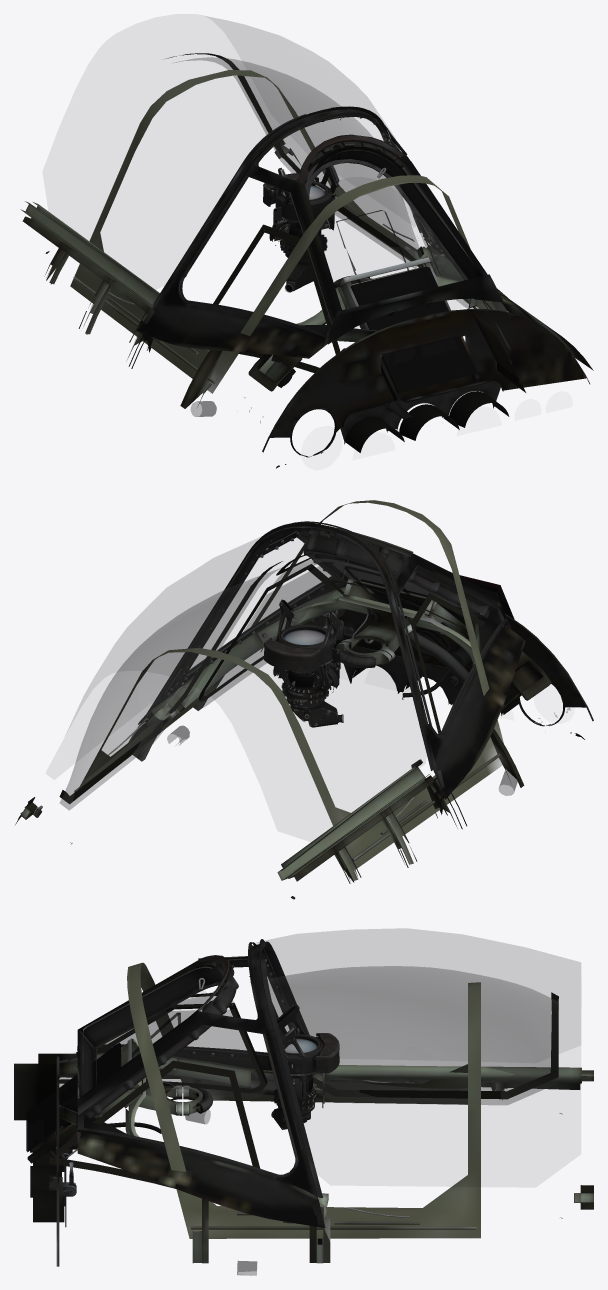
Rendered from cockpitshit34.glb.
3 views of the same model, one above another, from view 1: azimuth 30°, elevation 25°; view 2: azimuth 150°, elevation 25°; view 3: azimuth 270°, elevation 25° (orthographic). The views are drawn at different scales.
Visible parts, largest first — view 1: Object_35, Object_15, Object_22, Object_13, Object_23, Object_82; view 2: Object_35, Object_22, Object_15, Object_13, Object_82, Object_23; view 3: Object_35, Object_15, Object_22, Object_13, Object_23, Object_82.
Part boxes in pixels (x1,y1,x2,y2): Object_35: [20, 106, 593, 468]; Object_15: [191, 16, 476, 423]; Object_22: [174, 57, 510, 349]; Object_13: [70, 70, 495, 393]; Object_23: [165, 53, 510, 384]; Object_82: [263, 165, 339, 292]; Object_35: [15, 521, 593, 899]; Object_22: [60, 559, 473, 810]; Object_15: [67, 532, 570, 795]; Object_13: [74, 500, 503, 870]; Object_82: [264, 599, 343, 727]; Object_23: [59, 553, 484, 803]; Object_35: [14, 939, 593, 1266]; Object_15: [26, 929, 580, 1275]; Object_22: [59, 966, 558, 1104]; Object_13: [127, 962, 480, 1238]; Object_23: [49, 976, 558, 1188]; Object_82: [268, 1004, 339, 1129].
Size of the model in its own units: 23025 by 17362 by 35199.
Materials: 16 (15 with a texture image).
